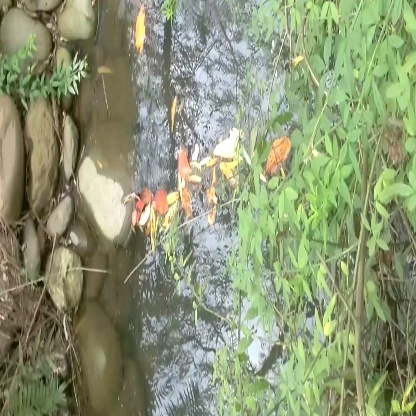leaf: (133, 187, 191, 235)
